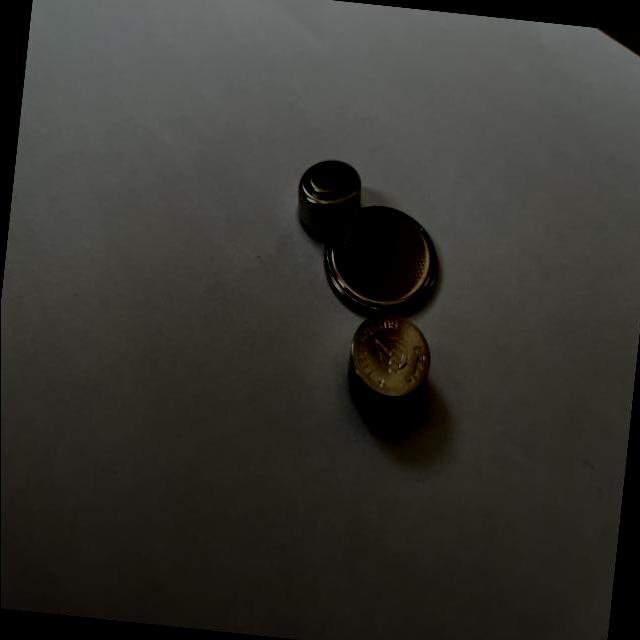COIN: (320, 200, 444, 326), (344, 311, 434, 424), (295, 157, 366, 236)
